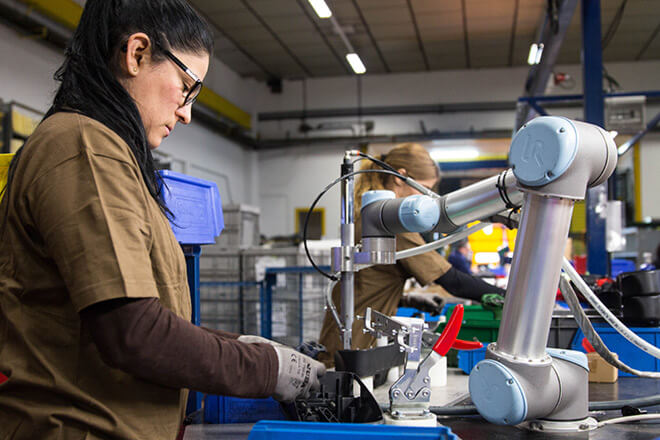person: (1, 2, 328, 440), (319, 144, 511, 361)
robot: (305, 114, 619, 436)
